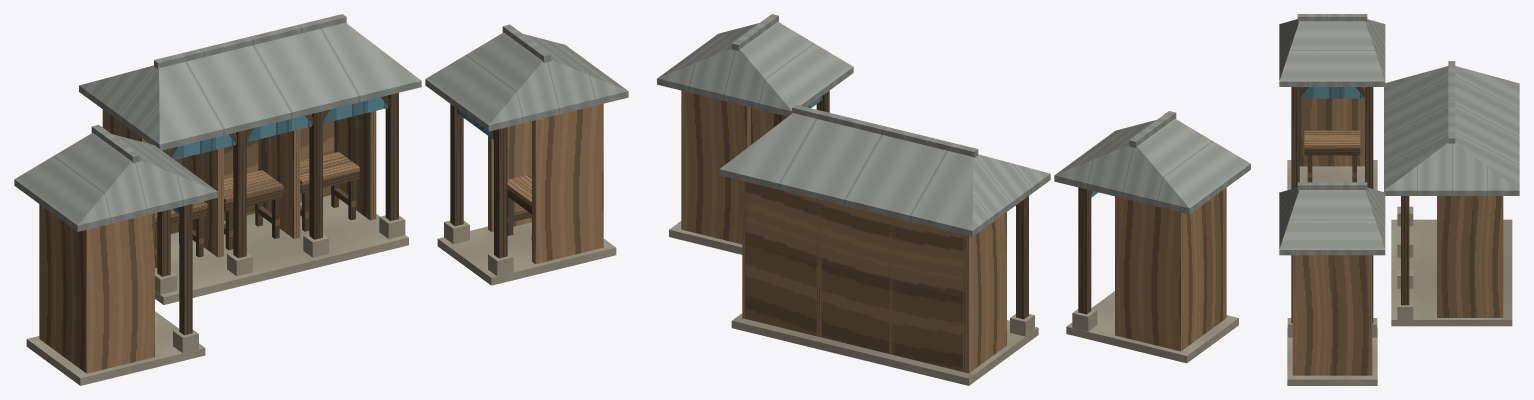
3 renders of one model, left to right at view 1: azimuth 30°, elevation 25°; view 2: azimuth 150°, elevation 25°; view 3: azimuth 270°, elevation 25°, orthographic. The views are drawn at different scales.
Parts seen in each view (by area): view 1: bsb; view 2: bsb; view 3: bsb.
Boxes of the visible parts, x1,y1,x2,y2 form: bsb: (14,14,628,385); bsb: (657,14,1250,385); bsb: (1279,14,1519,385).
Size of the model in its own units: 6.86 by 2.5 by 3.09.
1 material, 1 textured.
